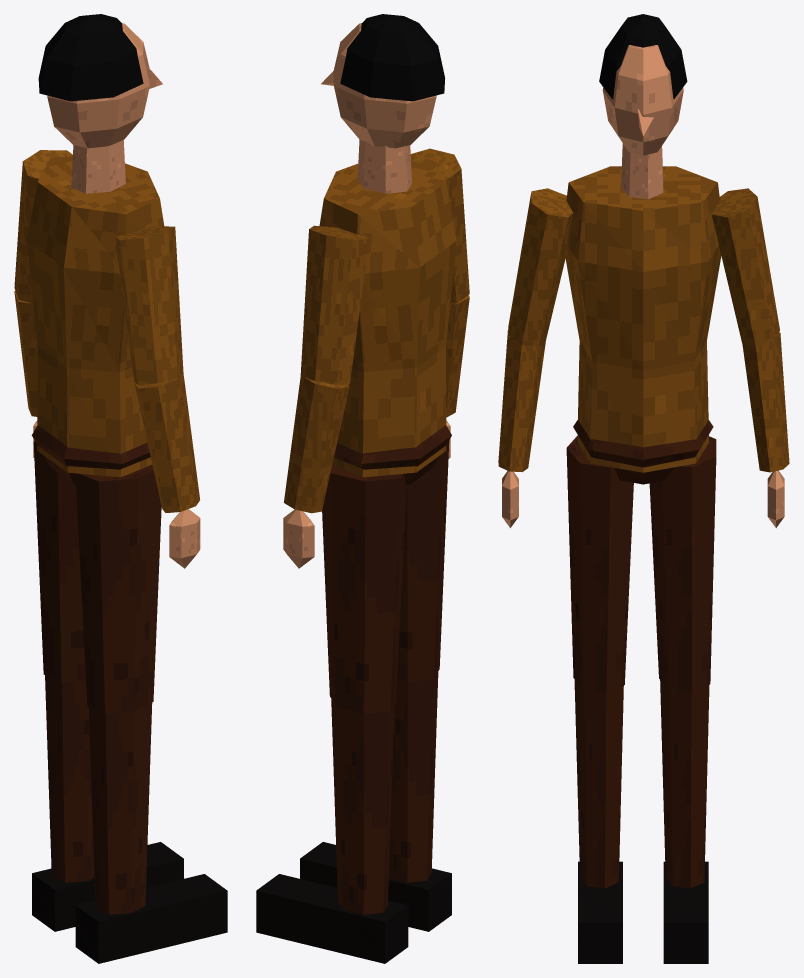
Rendered from obrero.glb.
3 renders of one model, left to right at view 1: azimuth 30°, elevation 25°; view 2: azimuth 150°, elevation 25°; view 3: azimuth 270°, elevation 25°, orthographic. The views are drawn at different scales.
Visible parts, largest first — view 1: torso, muslo_der, pierna_der, muslo_izq, pierna_izq, brazo_der, pie_der, cabello, antebrazo_der, cabeza, pie_izq, brazo_izq (+4 smaller); view 2: torso, muslo_izq, pierna_izq, muslo_der, pierna_der, brazo_izq, pie_izq, cabello, antebrazo_izq, cabeza, pie_der, brazo_der (+4 smaller); view 3: torso, muslo_der, muslo_izq, pierna_izq, pierna_der, brazo_izq, brazo_der, cabeza, antebrazo_izq, antebrazo_der, pie_izq, pie_der (+5 smaller).
Part boxes in pixels (x1,y1,x2,y2): torso: (27, 156, 164, 477); muslo_der: (75, 464, 161, 713); pierna_der: (88, 702, 152, 914); muslo_izq: (33, 440, 85, 681); pierna_izq: (45, 675, 94, 882); brazo_der: (115, 226, 183, 384); pie_der: (75, 874, 227, 963); cabello: (38, 14, 143, 101); antebrazo_der: (134, 373, 199, 512); cabeza: (47, 23, 162, 148); pie_izq: (32, 842, 183, 931); brazo_izq: (14, 150, 72, 303); torso: (319, 156, 456, 477); muslo_izq: (322, 465, 406, 713); pierna_izq: (331, 699, 394, 914); muslo_der: (397, 440, 449, 682); pierna_der: (388, 672, 438, 882); brazo_izq: (300, 225, 369, 384); pie_izq: (256, 874, 408, 963); cabello: (340, 14, 445, 101); antebrazo_izq: (284, 375, 349, 513); cabeza: (321, 23, 436, 148); pie_der: (300, 842, 451, 931); brazo_der: (410, 148, 469, 303); torso: (565, 166, 721, 472); muslo_der: (566, 436, 633, 692); muslo_izq: (649, 436, 716, 692); pierna_izq: (660, 680, 709, 888); pierna_der: (574, 679, 623, 888); brazo_izq: (711, 188, 779, 346); brazo_der: (508, 188, 572, 346); cabeza: (602, 45, 683, 155); antebrazo_izq: (742, 332, 789, 472); antebrazo_der: (498, 330, 545, 472); pie_izq: (663, 861, 708, 963); pie_der: (578, 861, 622, 963).
Bounding box in the file's own units: 0.3 × 1.7 × 0.5.
1 material, 1 textured.
